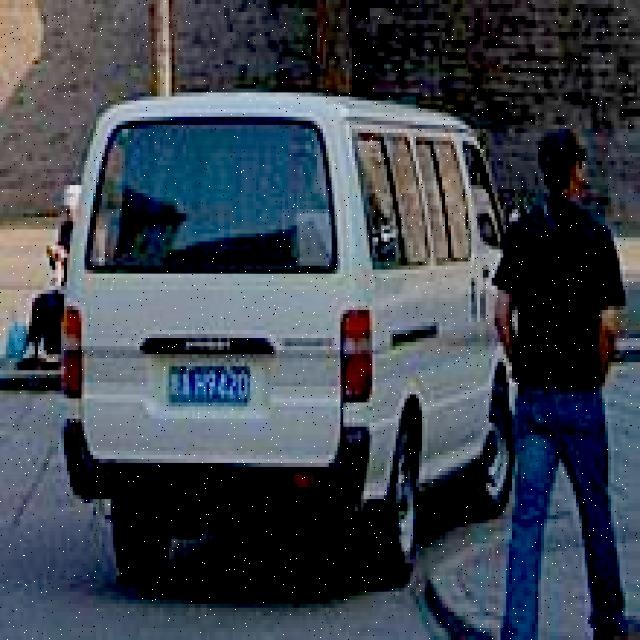Van: (61, 88, 532, 580)
